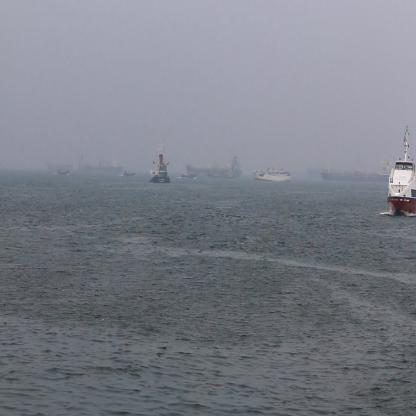Container Ship: (320, 157, 392, 183), (185, 153, 242, 176), (150, 140, 170, 184), (78, 156, 126, 171), (252, 166, 291, 182), (45, 160, 74, 170)
